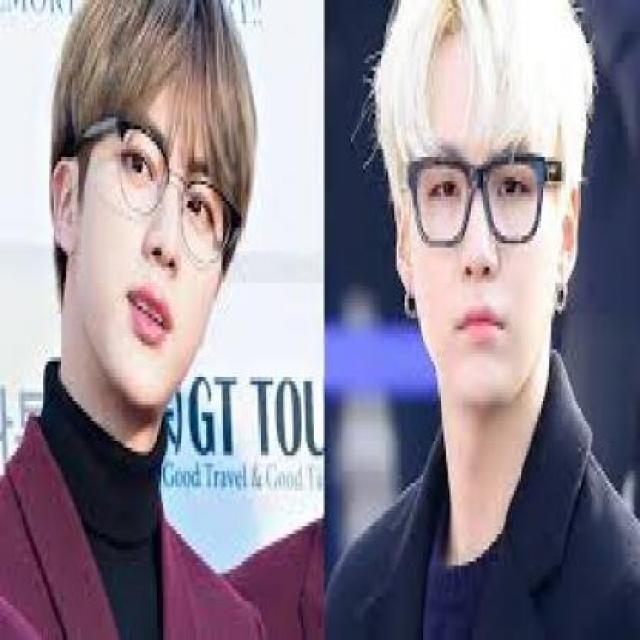glasses: (114, 102, 242, 270), (401, 148, 552, 252)
